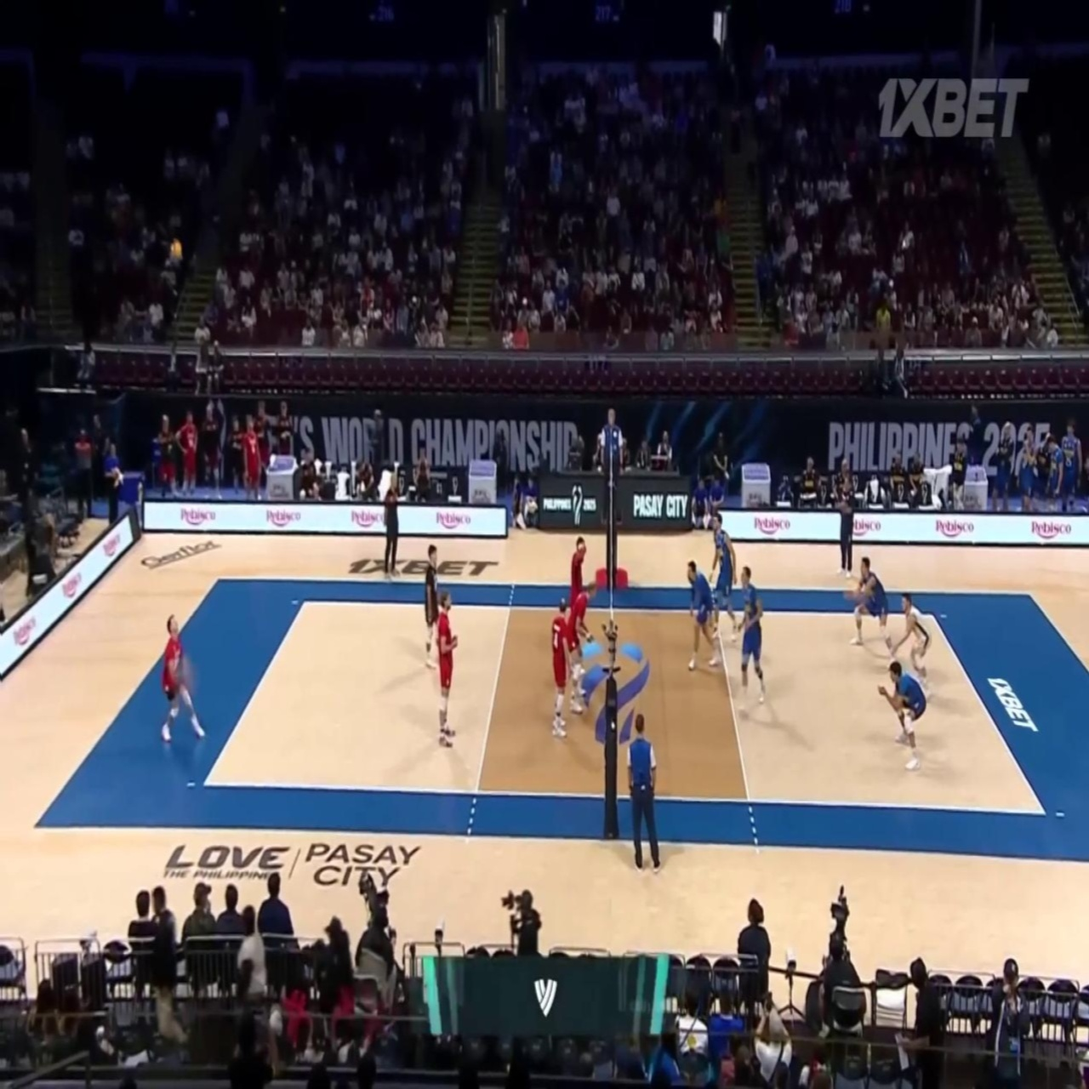ball: (169, 238, 181, 261)
